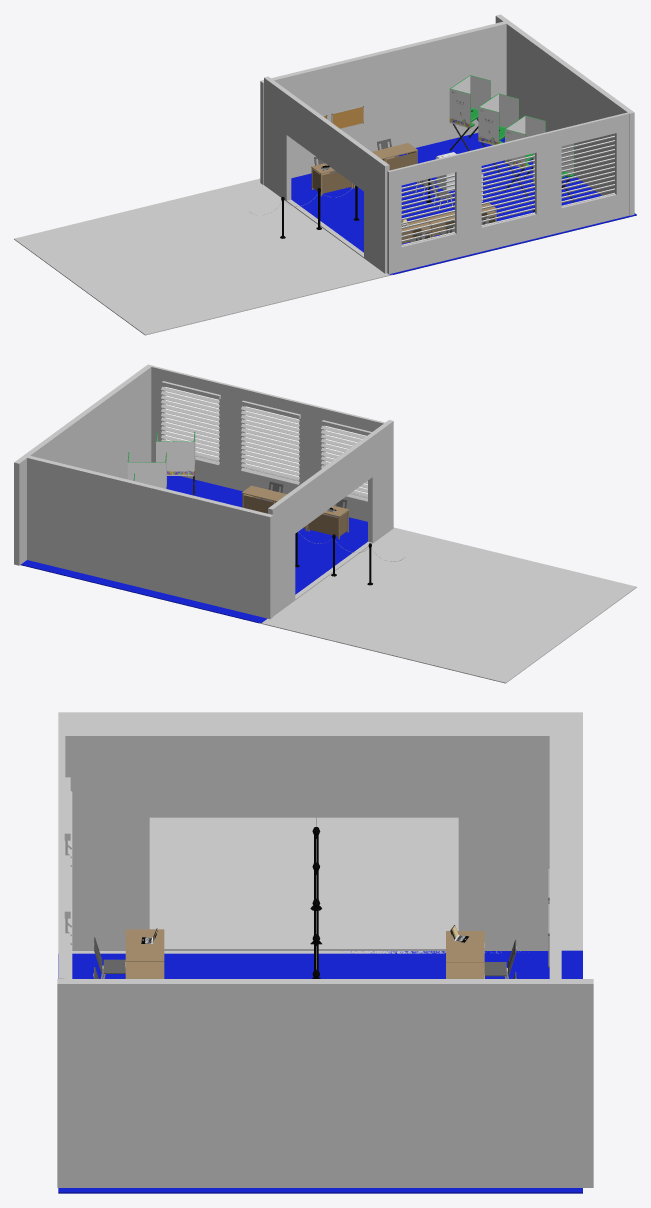
File: indoor.glb
3 views of the same model, one above another, from view 1: azimuth 30°, elevation 25°; view 2: azimuth 150°, elevation 25°; view 3: azimuth 270°, elevation 25° (orthographic). The views are drawn at different scales.
Parts seen in each view (by area): view 1: indoor_env, pollingBooth1, pollingBooth2, pollingBooth3; view 2: indoor_env, pollingBooth4, pollingBooth3; view 3: indoor_env.
Part boxes in pixels (bbox=[...]): indoor_env: bbox=[14, 14, 636, 335]; pollingBooth1: bbox=[449, 75, 490, 151]; pollingBooth2: bbox=[478, 93, 519, 174]; pollingBooth3: bbox=[505, 115, 545, 196]; indoor_env: bbox=[14, 364, 636, 683]; pollingBooth4: bbox=[156, 431, 195, 495]; pollingBooth3: bbox=[127, 452, 166, 488]; indoor_env: bbox=[57, 712, 593, 1193].
Size of the model in its own units: 50.7 by 10.75 by 23.94.
Materials: 28 (20 with a texture image).
